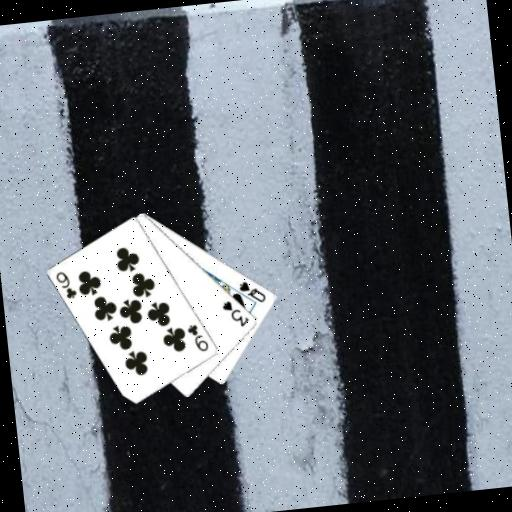3S: (219, 296, 252, 331)
9C: (184, 320, 211, 355), (52, 267, 79, 302)
QS: (235, 277, 268, 307)
